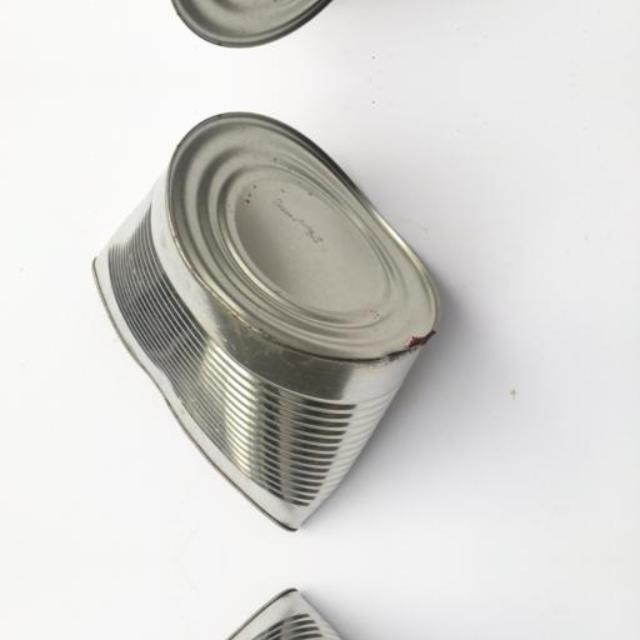Metal: (84, 106, 456, 552), (84, 568, 455, 640), (84, 0, 455, 53)
